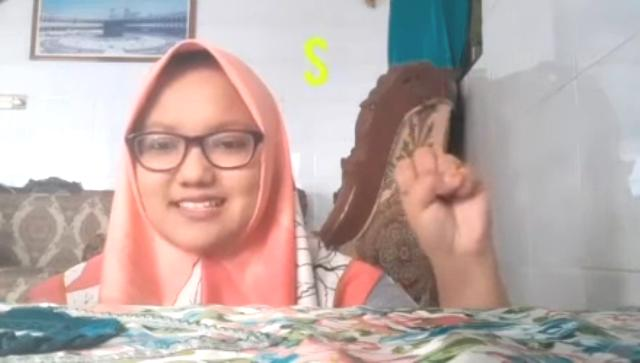S: (394, 147, 490, 256)
